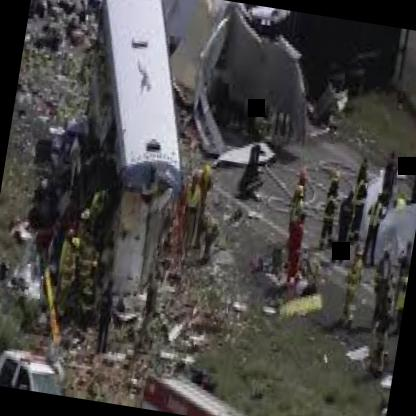accident: (25, 0, 217, 358)
